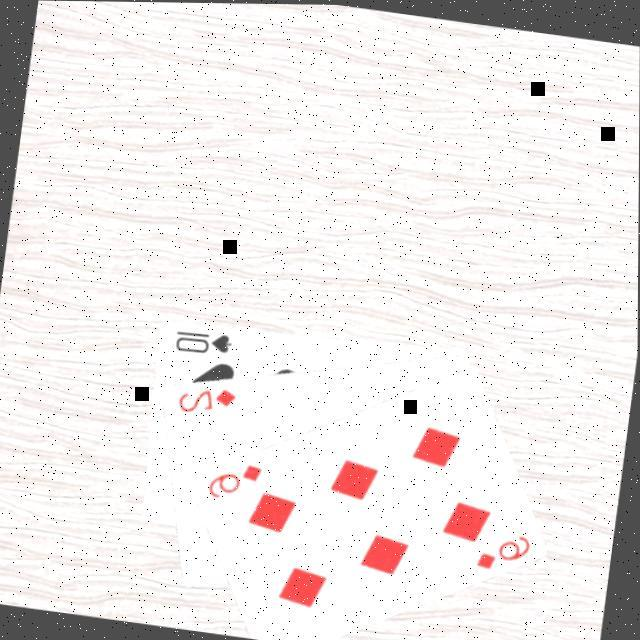10S: (167, 321, 234, 358)
2D: (172, 377, 238, 420)
6D: (470, 523, 533, 575), (201, 453, 263, 505)
